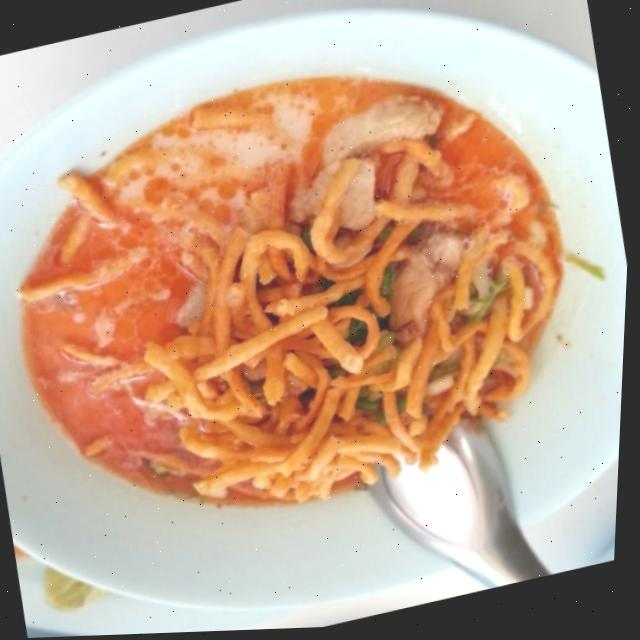面条主食: (0, 20, 628, 586)
